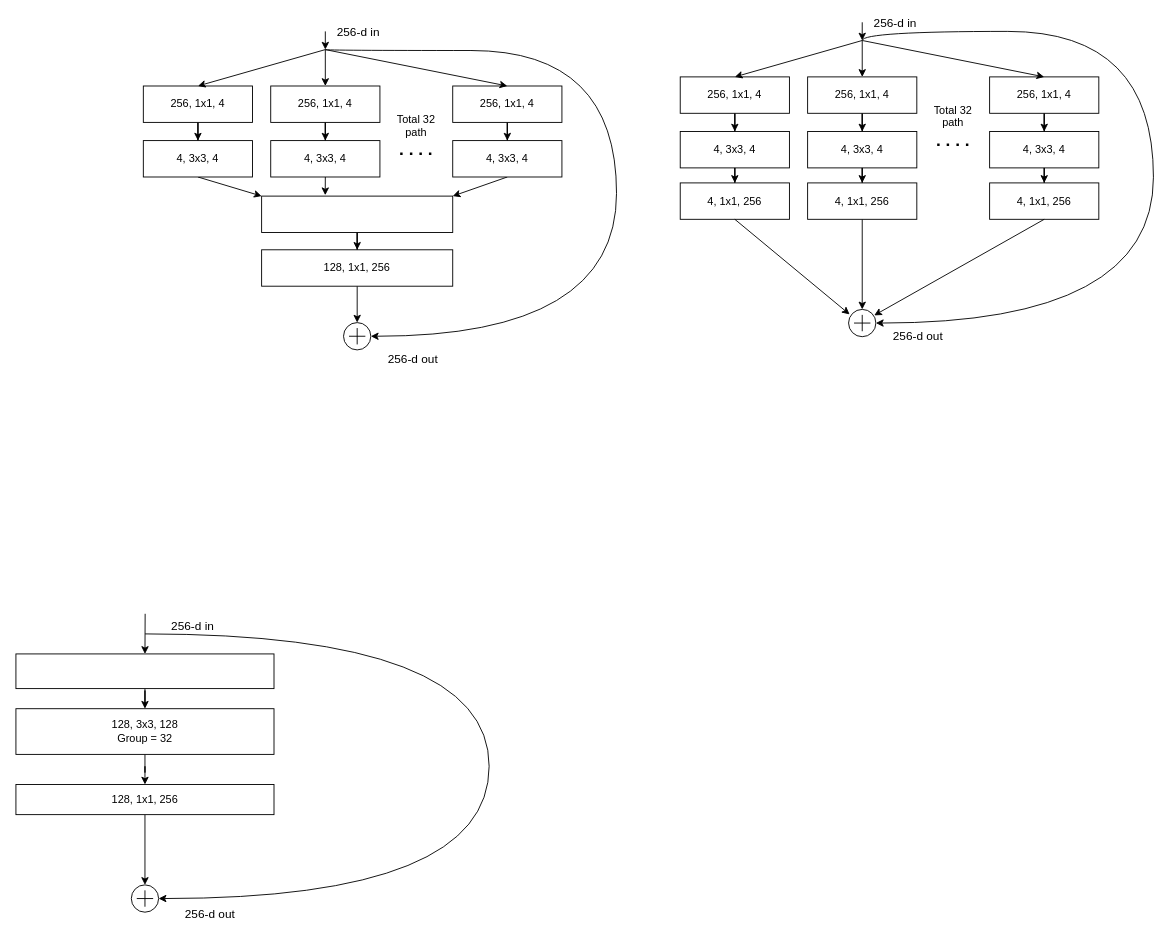
This 1169x937 diagram has some shape labels left out. Here are the shapes that lost their labels. From the top down, the centre of each, then its label:
At (x=357, y=214): "Concatenate".
At (x=144, y=671): "256, 1x1, 128".
